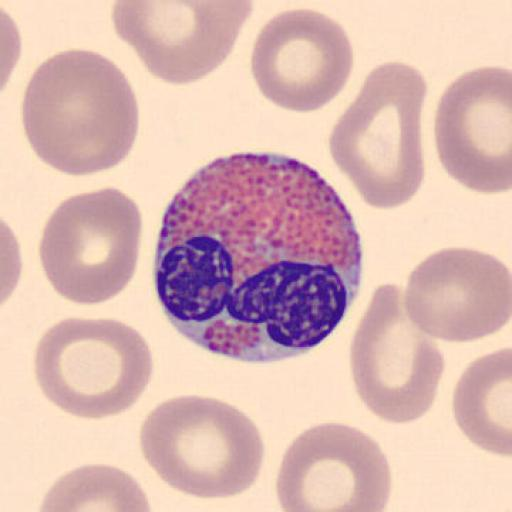RBC: (20, 47, 141, 179), (327, 60, 427, 211), (138, 394, 267, 500), (349, 284, 445, 424), (33, 315, 156, 421), (37, 185, 144, 306), (110, 0, 254, 86), (274, 419, 394, 512), (250, 8, 354, 115), (403, 245, 511, 345), (434, 64, 512, 194), (451, 345, 512, 459), (35, 462, 153, 512), (0, 2, 23, 100), (0, 215, 23, 310), (178, 0, 256, 24)
WBC: (150, 155, 366, 364)
